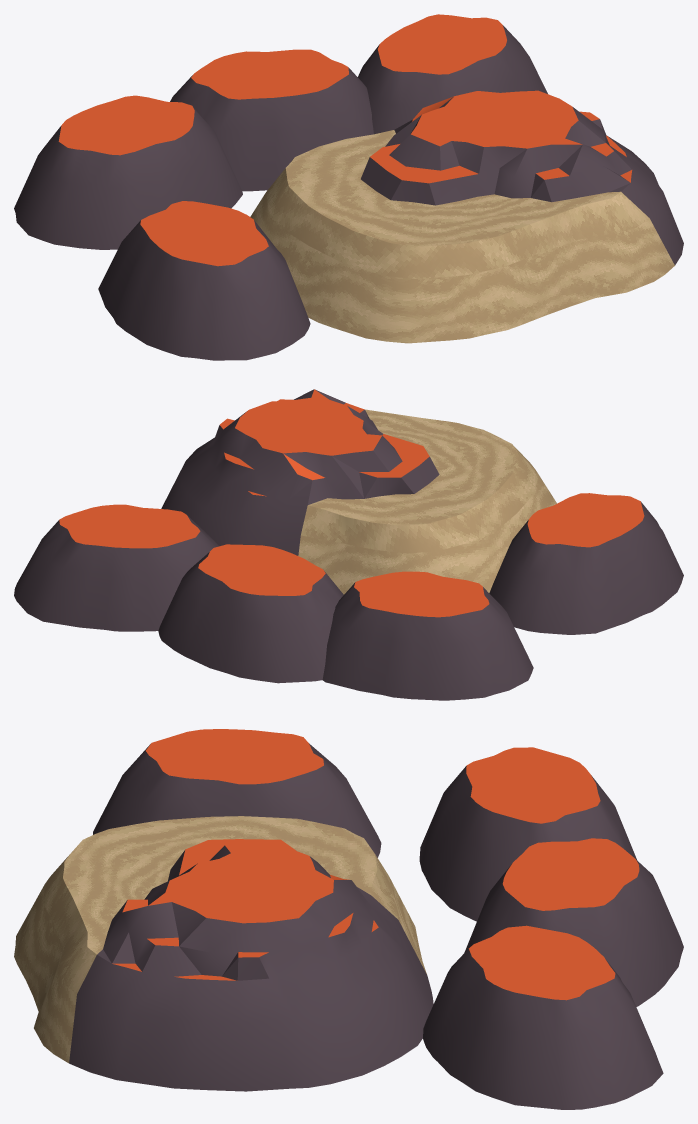
The model's file is AbandonedIsland.fbx.
3 renders of one model, top to bottom at view 1: azimuth 30°, elevation 25°; view 2: azimuth 150°, elevation 25°; view 3: azimuth 270°, elevation 25°, orthographic. The views are drawn at different scales.
Visible parts, largest first — view 1: Island; view 2: Island; view 3: Island.
Boxes of the visible parts, x1,y1,x2,y2 form: Island: [14, 14, 683, 360]; Island: [14, 389, 683, 700]; Island: [14, 729, 683, 1109].
Size of the model in its own units: 10002 by 1880 by 9061.
